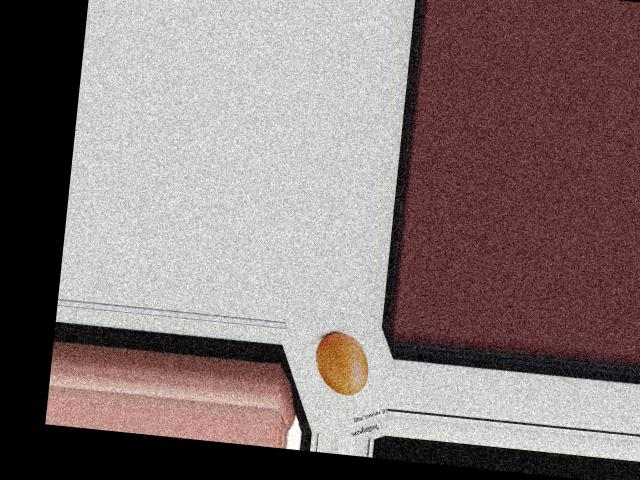egg: (312, 330, 371, 396)
